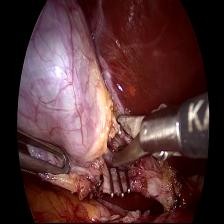Grasper: (11, 126, 72, 180)
Scissors: (107, 112, 154, 173)
